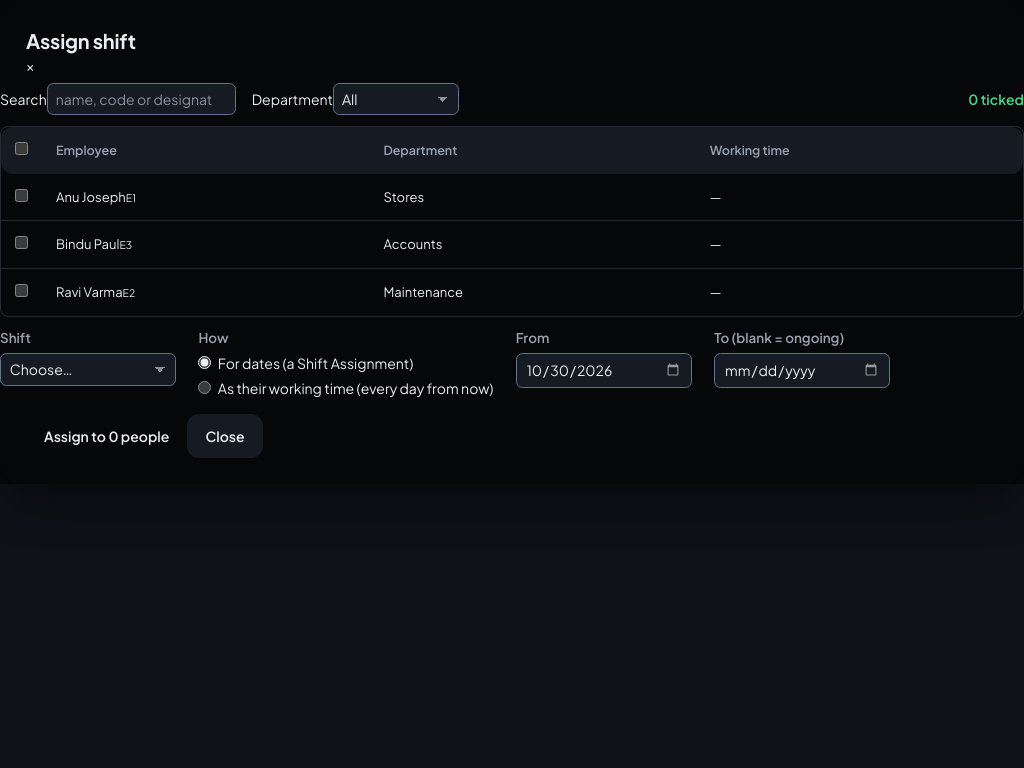
the Assign shift window › ticks everybody shown at once, and only those shown
Select "Stores" in the dropdown labelled "Department". click: (396, 99)
box: [333,83,459,115]
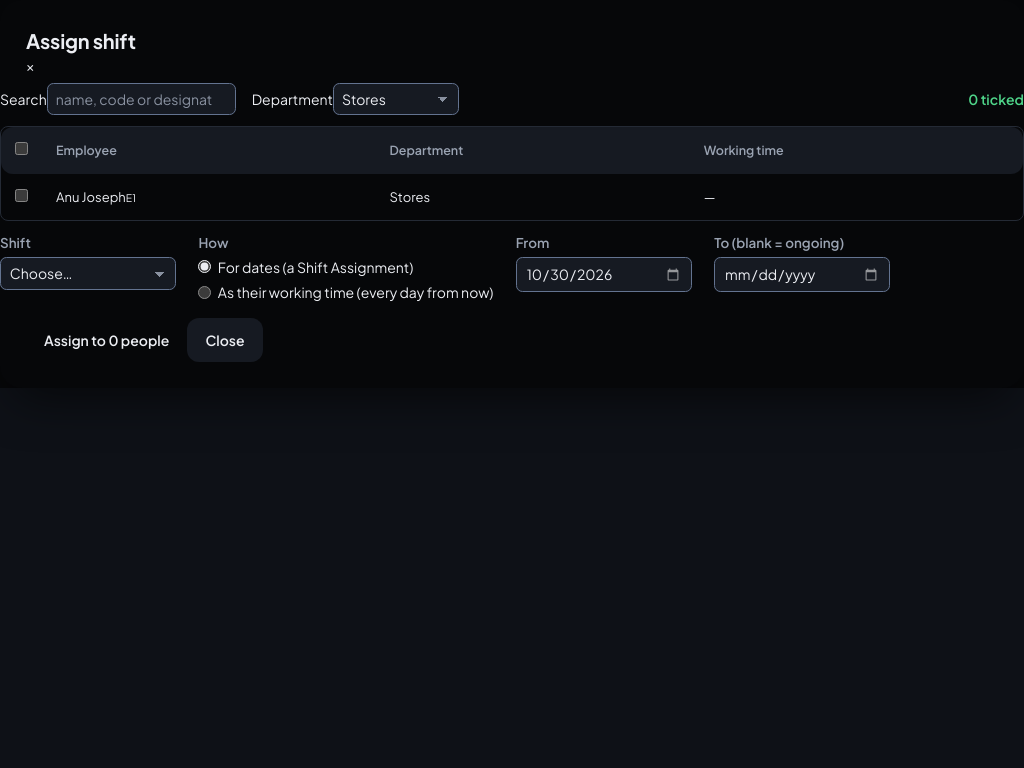
Click the checkbox named "Tick everybody shown". click: (22, 149)
box: [15,142,28,155]
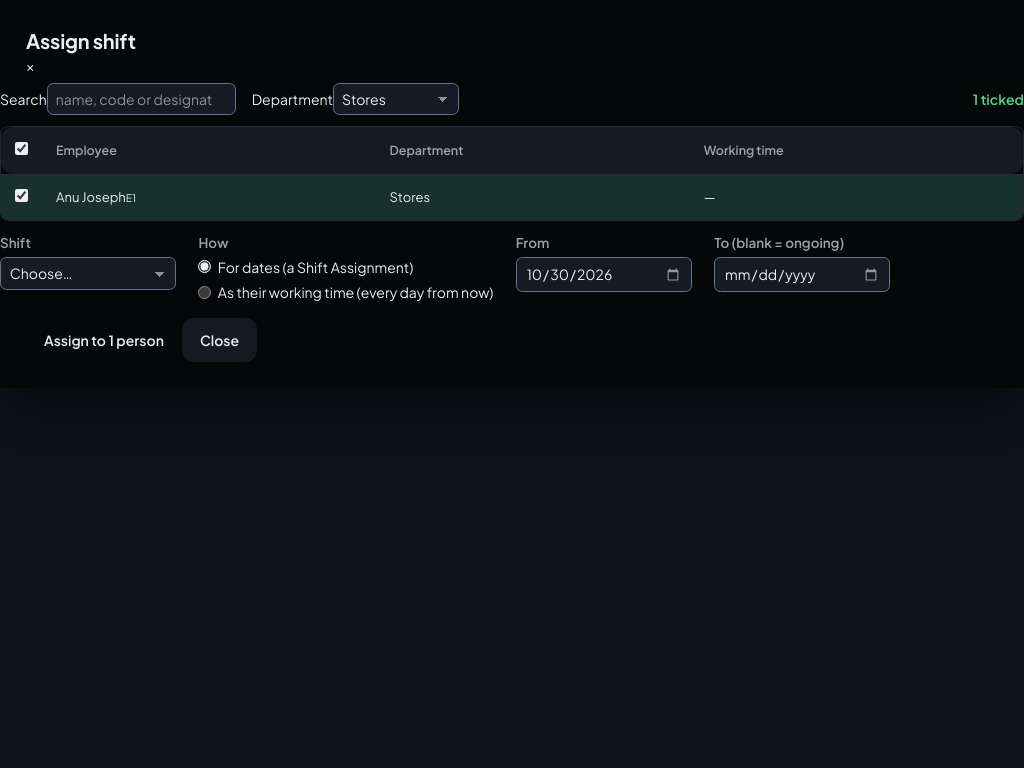
Result: the text "1 ticked" is shown at [973,89,1023,109]
